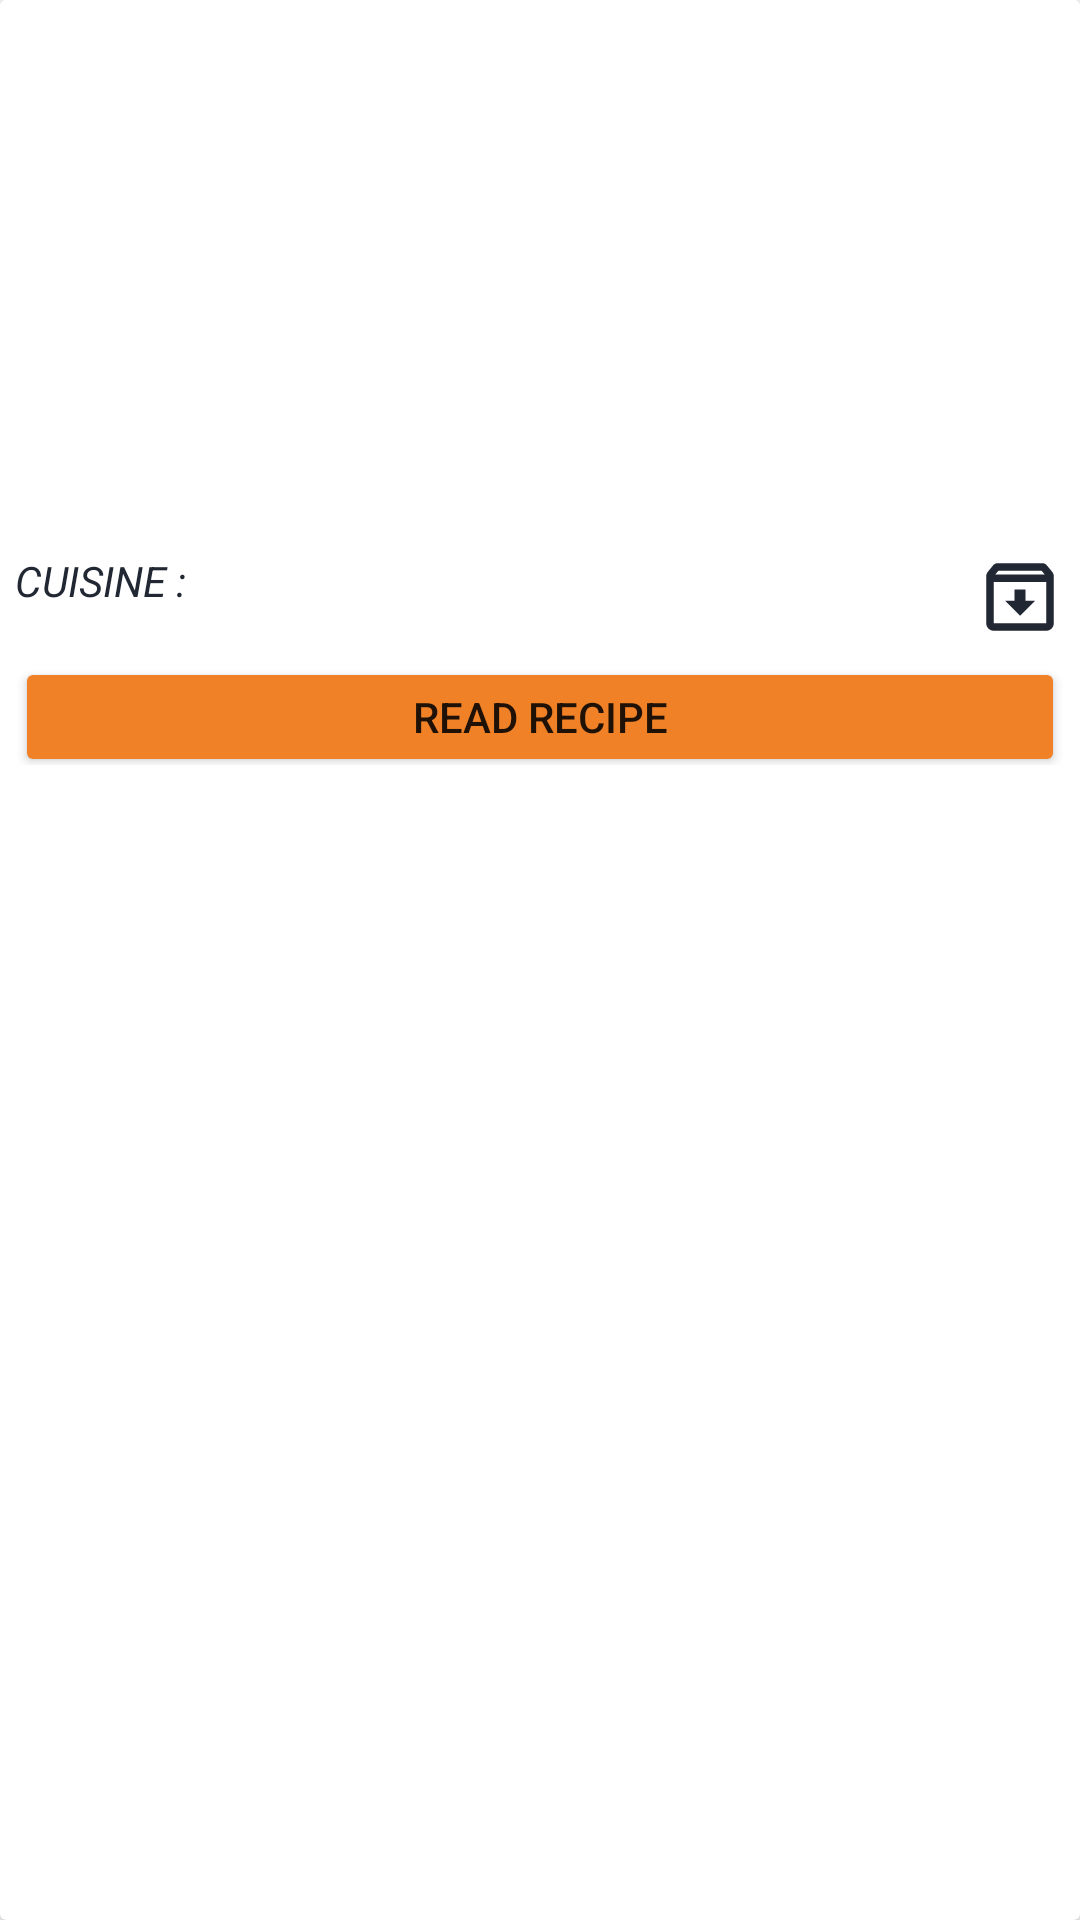

Where icons sit on this 1080 × 1920 app screen, as (x1=x1, y1=y1, x2=x2, y2=y2):
save: (x1=986, y1=563, x2=1054, y2=631)
